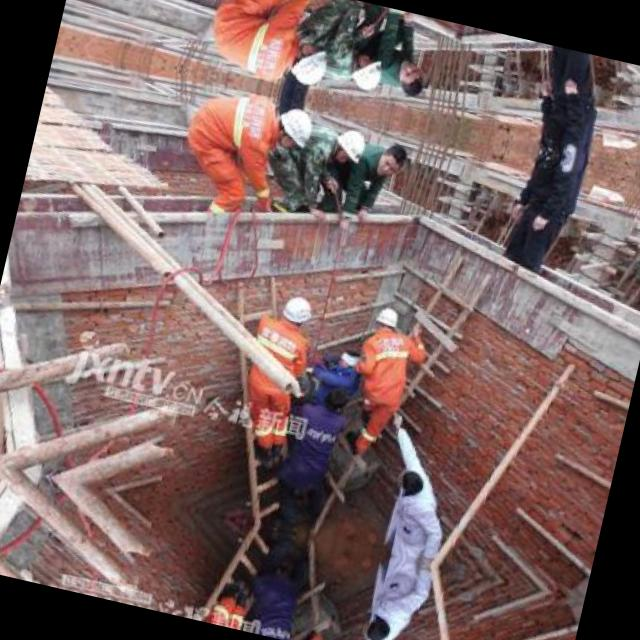helmet: (267, 102, 316, 154), (282, 38, 331, 90), (326, 124, 366, 166), (342, 52, 382, 94), (275, 290, 313, 330), (368, 300, 399, 334)
